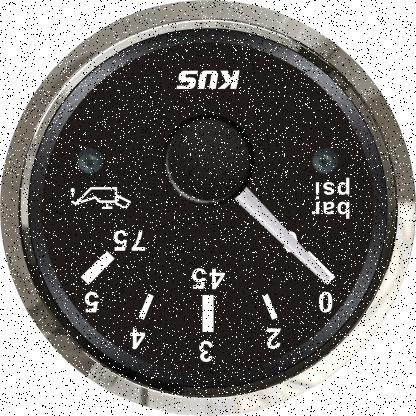needle: (231, 188, 336, 289)
